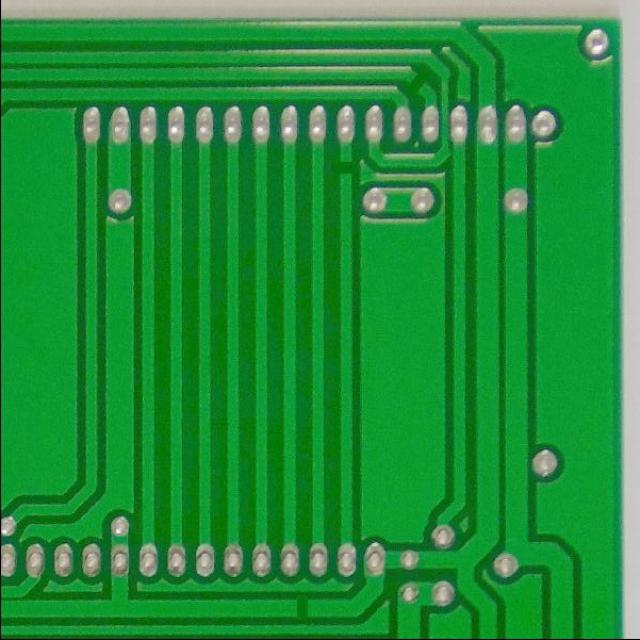open_circuit: (330, 154, 360, 180), (404, 73, 428, 98), (290, 595, 311, 621)
